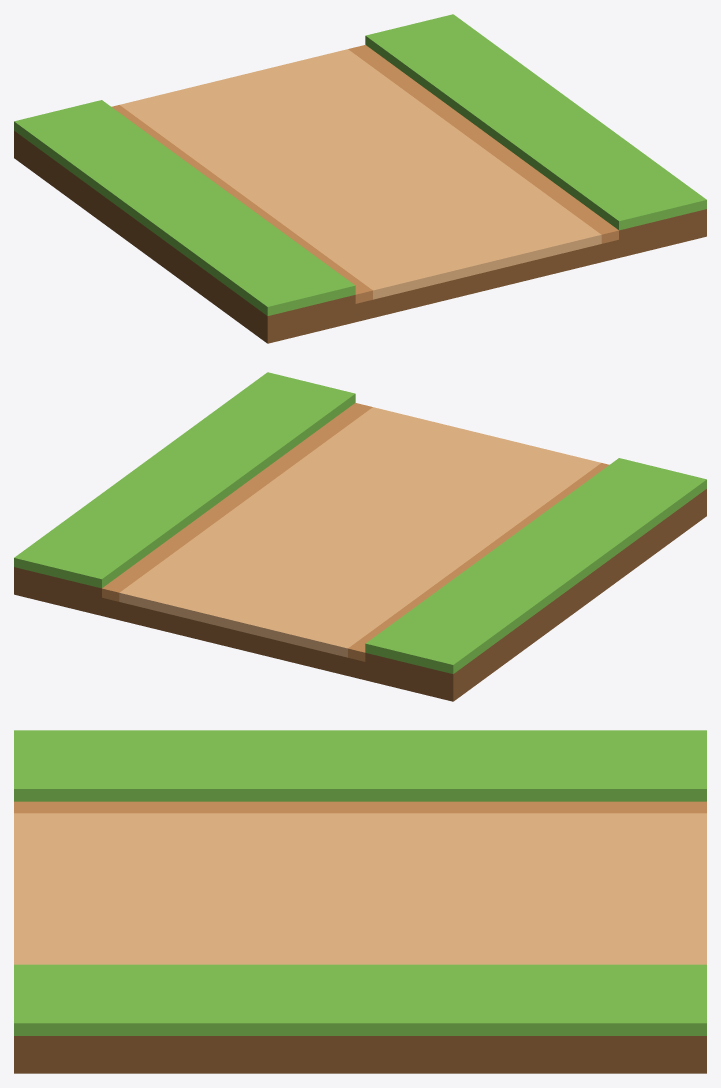
The model's file is path_straight_b.glb.
The picture shows the model from 3 angles, top to bottom: view 1: azimuth 30°, elevation 25°; view 2: azimuth 150°, elevation 25°; view 3: azimuth 270°, elevation 25°; orthographic projection. The views are drawn at different scales.
Parts seen in each view (by area): view 1: model_0; view 2: model_0; view 3: model_0.
Part boxes in pixels (x1,y1,x2,y2): model_0: [14, 14, 706, 343]; model_0: [14, 372, 706, 701]; model_0: [14, 730, 706, 1073].
Bounding box in the file's own units: 2 × 0.16 × 2.
